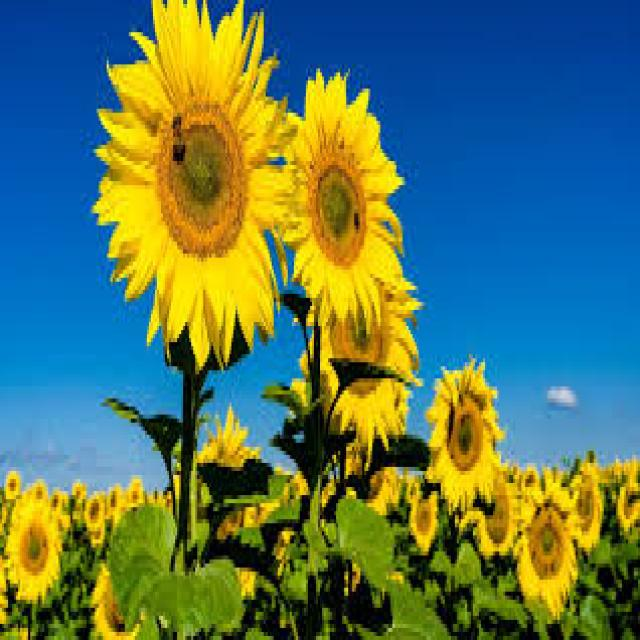sunflower: (96, 0, 295, 390), (275, 66, 404, 328), (423, 357, 501, 538), (522, 473, 577, 626), (3, 479, 67, 600), (566, 451, 607, 559), (84, 491, 105, 535), (68, 606, 70, 610)
